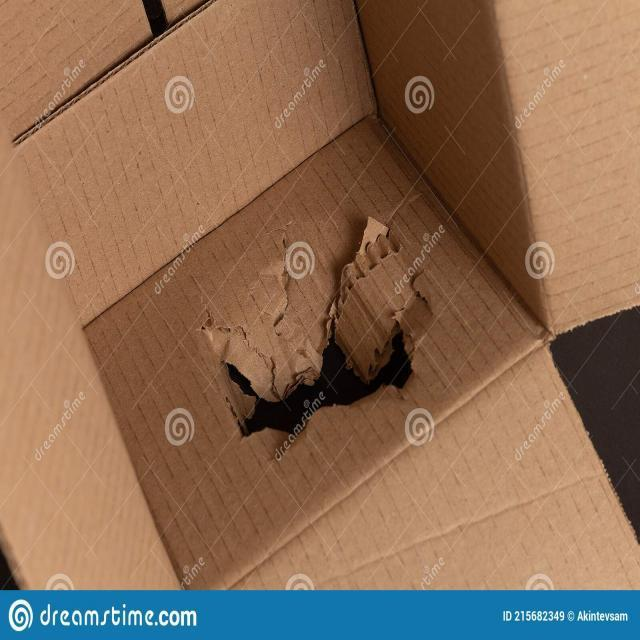hole: (227, 315, 415, 438)
